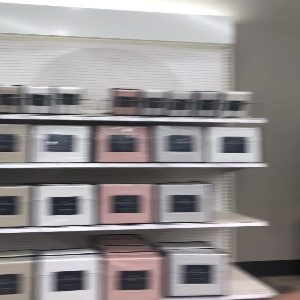void: (227, 230, 273, 294), (214, 172, 264, 224), (87, 47, 112, 115)
